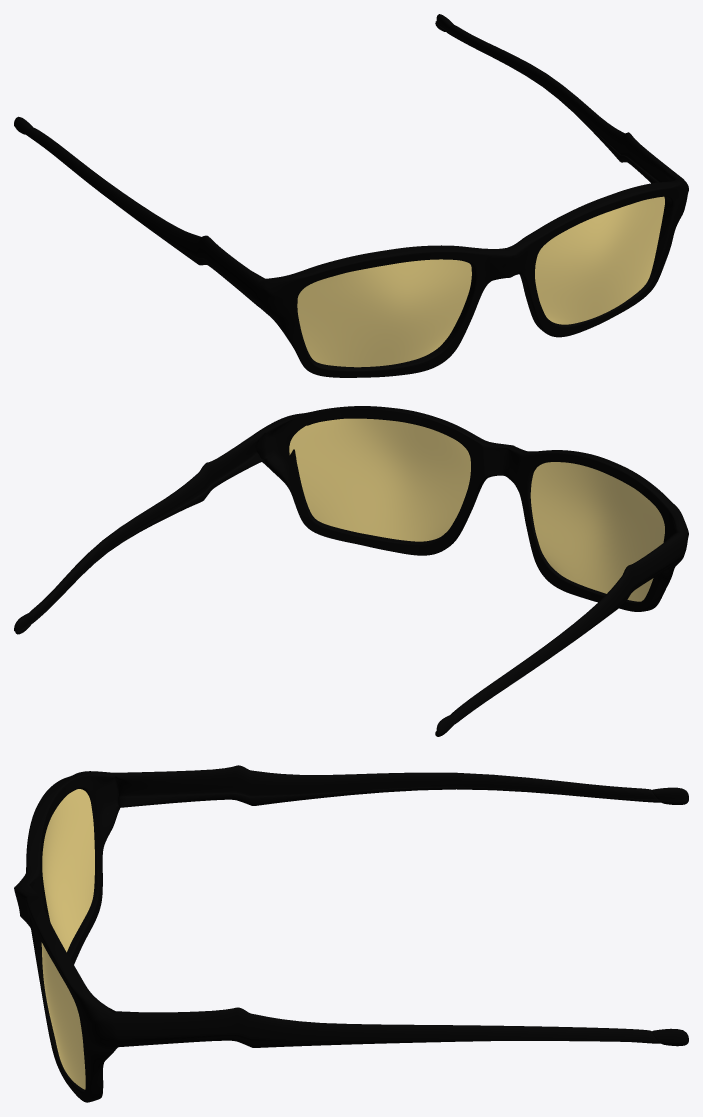
The model's file is sporty_spectactles.glb.
3 renders of one model, top to bottom at view 1: azimuth 30°, elevation 25°; view 2: azimuth 150°, elevation 25°; view 3: azimuth 270°, elevation 25°, orthographic. The views are drawn at different scales.
Parts seen in each view (by area): view 1: pCube3, pPlane8, pPlane7; view 2: pCube3, pPlane7, pPlane8; view 3: pCube3, pPlane8, pPlane7.
Boxes of the visible parts, x1,y1,x2,y2 form: pCube3: (14, 14, 688, 377); pPlane8: (297, 259, 471, 367); pPlane7: (535, 196, 664, 324); pCube3: (14, 406, 688, 736); pPlane7: (289, 418, 470, 541); pPlane8: (530, 462, 664, 601); pCube3: (14, 765, 688, 1102); pPlane8: (42, 789, 94, 952); pPlane7: (41, 942, 85, 1089).
Bounding box in the file's own units: 7.21 × 2.04 × 7.98.
